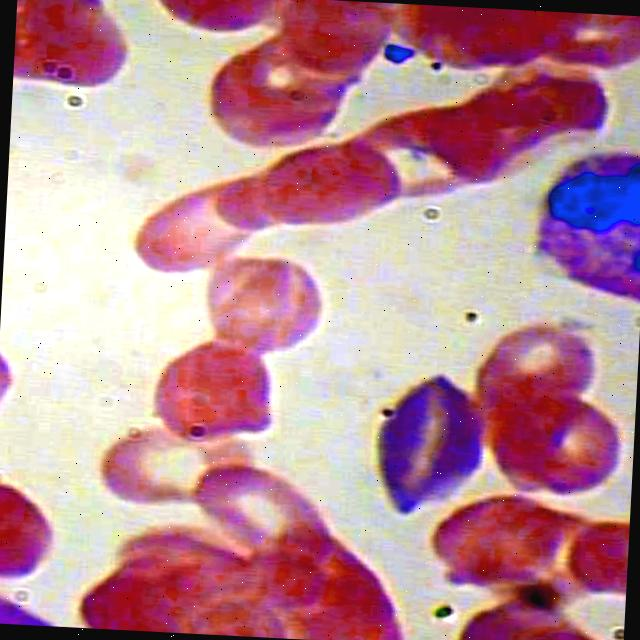Platelets: (380, 39, 418, 71)
RBC: (363, 360, 492, 524), (425, 478, 585, 593), (100, 408, 261, 518), (355, 97, 506, 210), (260, 137, 407, 246), (477, 319, 603, 430), (504, 392, 630, 503), (133, 174, 259, 284), (202, 250, 328, 360), (154, 342, 279, 448), (274, 0, 402, 91), (25, 0, 137, 94), (80, 565, 202, 634), (294, 576, 415, 640), (0, 477, 70, 585), (532, 11, 640, 79)
WBC: (519, 141, 640, 301)
